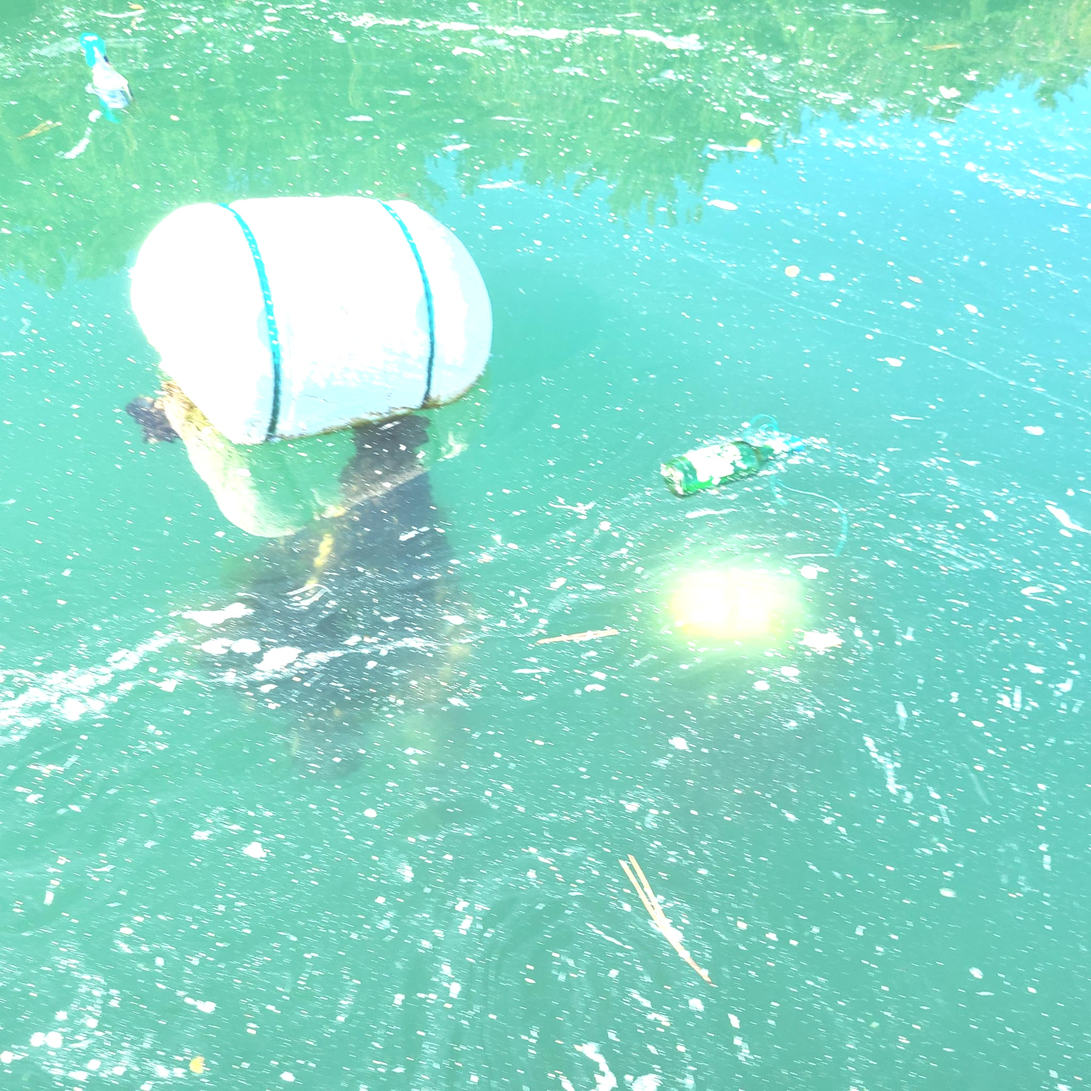sampah_terapung: (131, 196, 494, 445), (661, 436, 804, 497), (81, 34, 133, 108)
